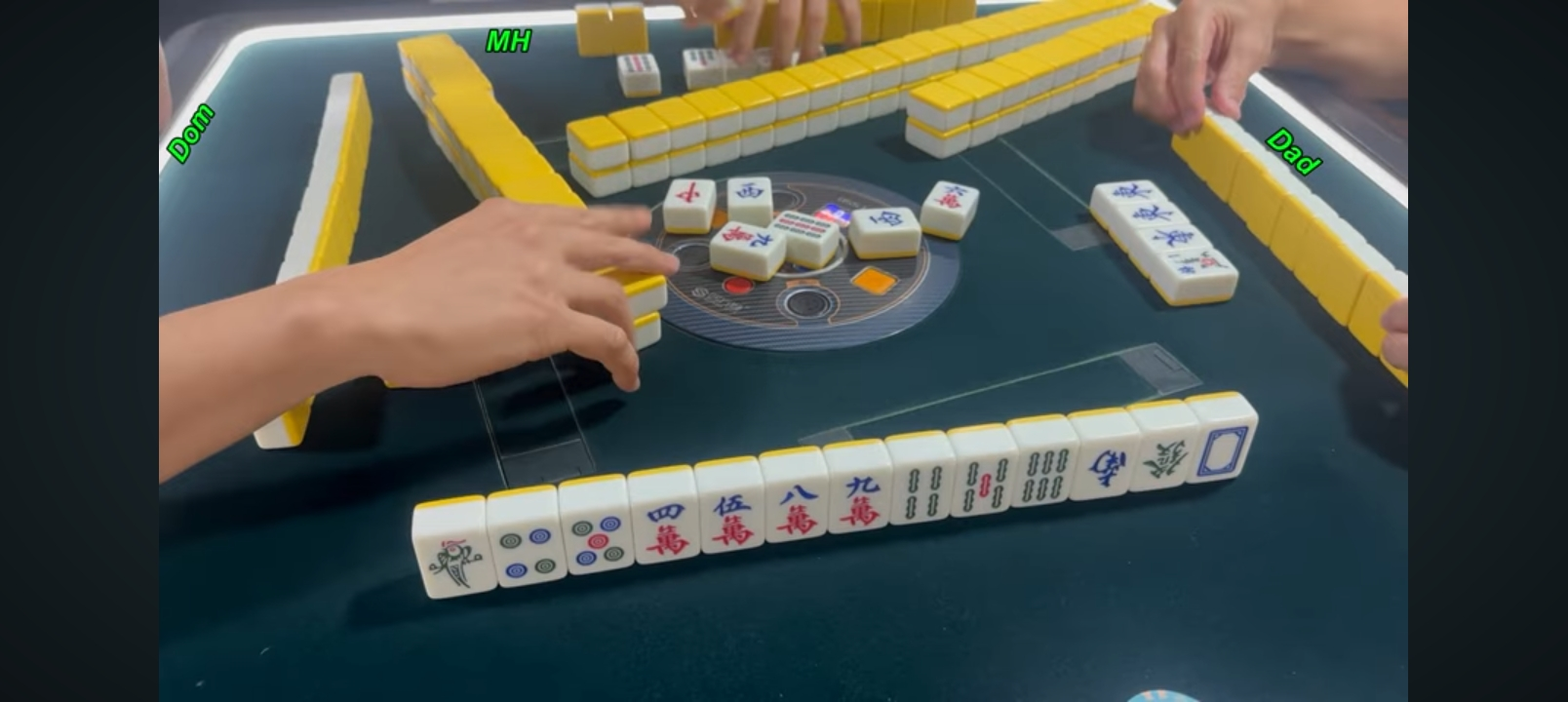TILE: (414, 531, 494, 595), (491, 523, 560, 586), (632, 500, 701, 562), (1073, 440, 1141, 502), (563, 512, 633, 572), (700, 491, 767, 551), (829, 473, 890, 533), (1133, 429, 1194, 489), (956, 456, 1019, 514), (1194, 421, 1257, 479), (894, 463, 954, 523), (1017, 449, 1081, 505), (767, 482, 827, 541)
